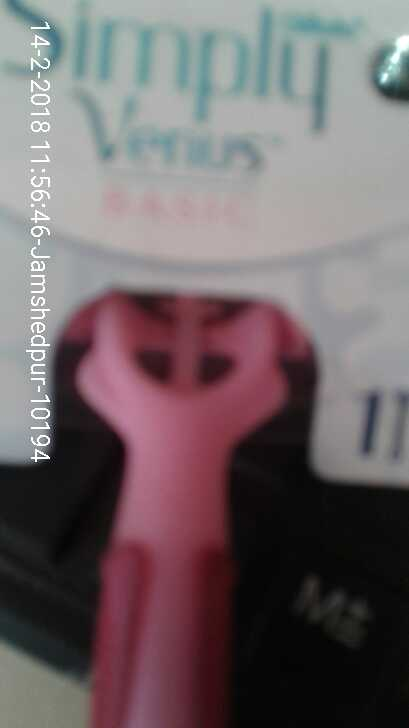reject: (85, 82, 221, 162)
